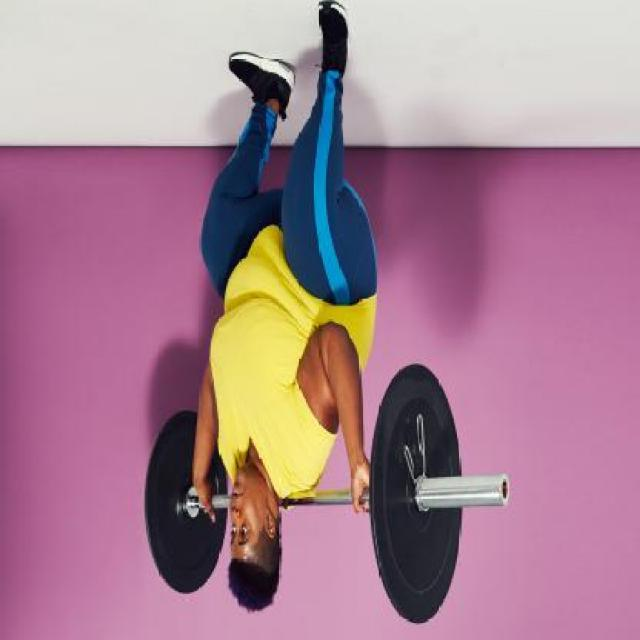Barbell: (498, 472, 512, 511)
